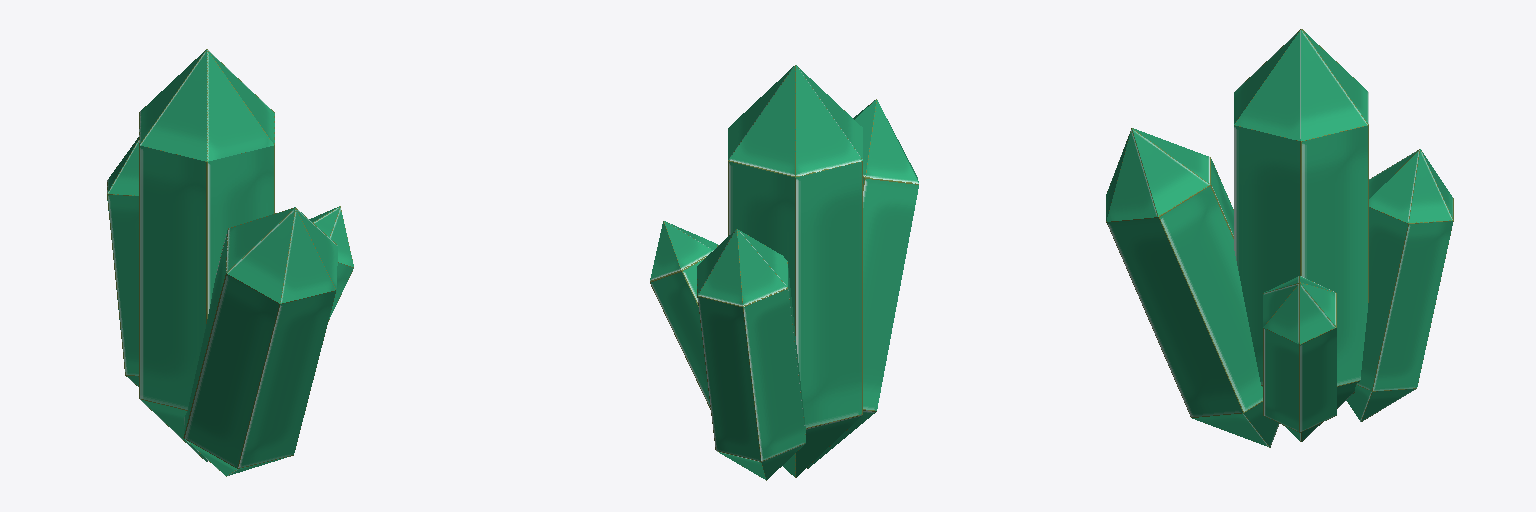
3 renders of one model, left to right at view 1: azimuth 30°, elevation 25°; view 2: azimuth 150°, elevation 25°; view 3: azimuth 270°, elevation 25°, orthographic.
Parts seen in each view (by area): view 1: Gengon01, Gengon002, Gengon004, Gengon003; view 2: Gengon01, Gengon004, Gengon002, Gengon003; view 3: Gengon01, Gengon002, Gengon004, Gengon003.
Part boxes in pixels (x1,y1,x2,y2): Gengon01: (139, 49, 274, 461); Gengon002: (183, 207, 337, 476); Gengon004: (107, 137, 138, 386); Gengon003: (309, 206, 353, 321); Gengon01: (728, 65, 862, 477); Gengon004: (697, 229, 805, 480); Gengon002: (807, 99, 918, 468); Gengon003: (650, 221, 718, 409); Gengon01: (1234, 29, 1368, 441); Gengon002: (1106, 128, 1279, 447); Gengon004: (1346, 149, 1453, 421); Gengon003: (1263, 276, 1336, 432).
Size of the model in its own units: 19.43 by 36.56 by 27.57.
1 materials, 1 textured.